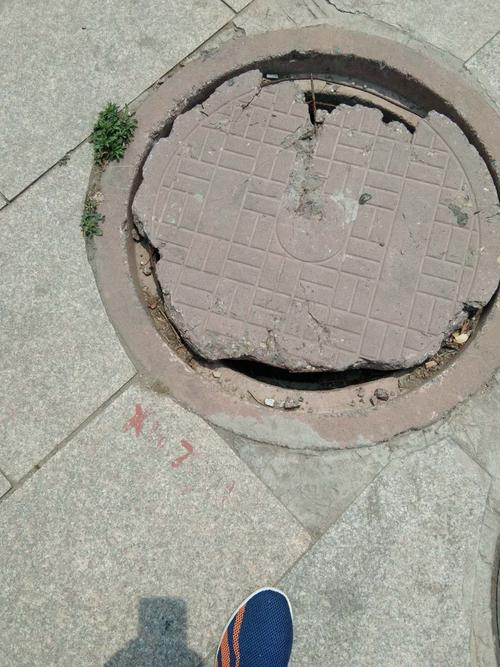broke: (78, 17, 500, 456)
